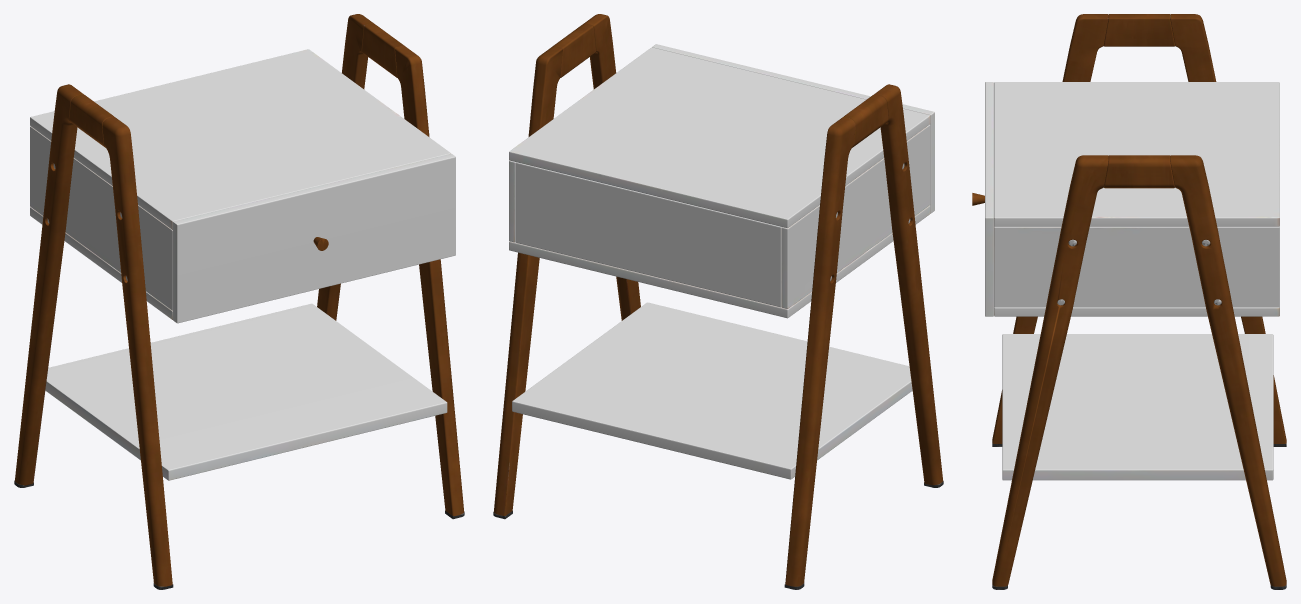
File: B07GDSDQX7.glb
3 views of the same model, side by side, from view 1: azimuth 30°, elevation 25°; view 2: azimuth 150°, elevation 25°; view 3: azimuth 270°, elevation 25° (orthographic).
Visible parts, largest first — view 1: RootNode; view 2: RootNode; view 3: RootNode.
Part boxes in pixels (x1,y1,x2,y2): RootNode: (14, 14, 464, 589); RootNode: (493, 14, 943, 589); RootNode: (972, 14, 1286, 589).
Size of the model in its own units: 0.4568 by 0.6097 by 0.4053.
Materials: 1 (1 with a texture image).
